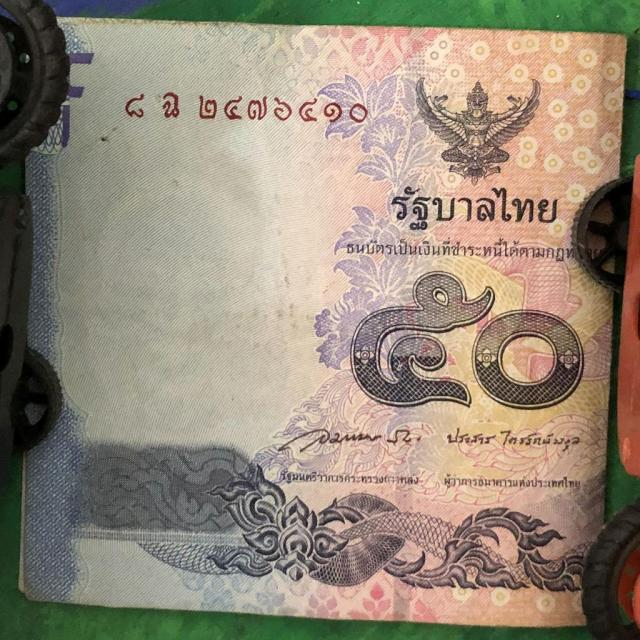THAI50: (19, 19, 628, 629)
